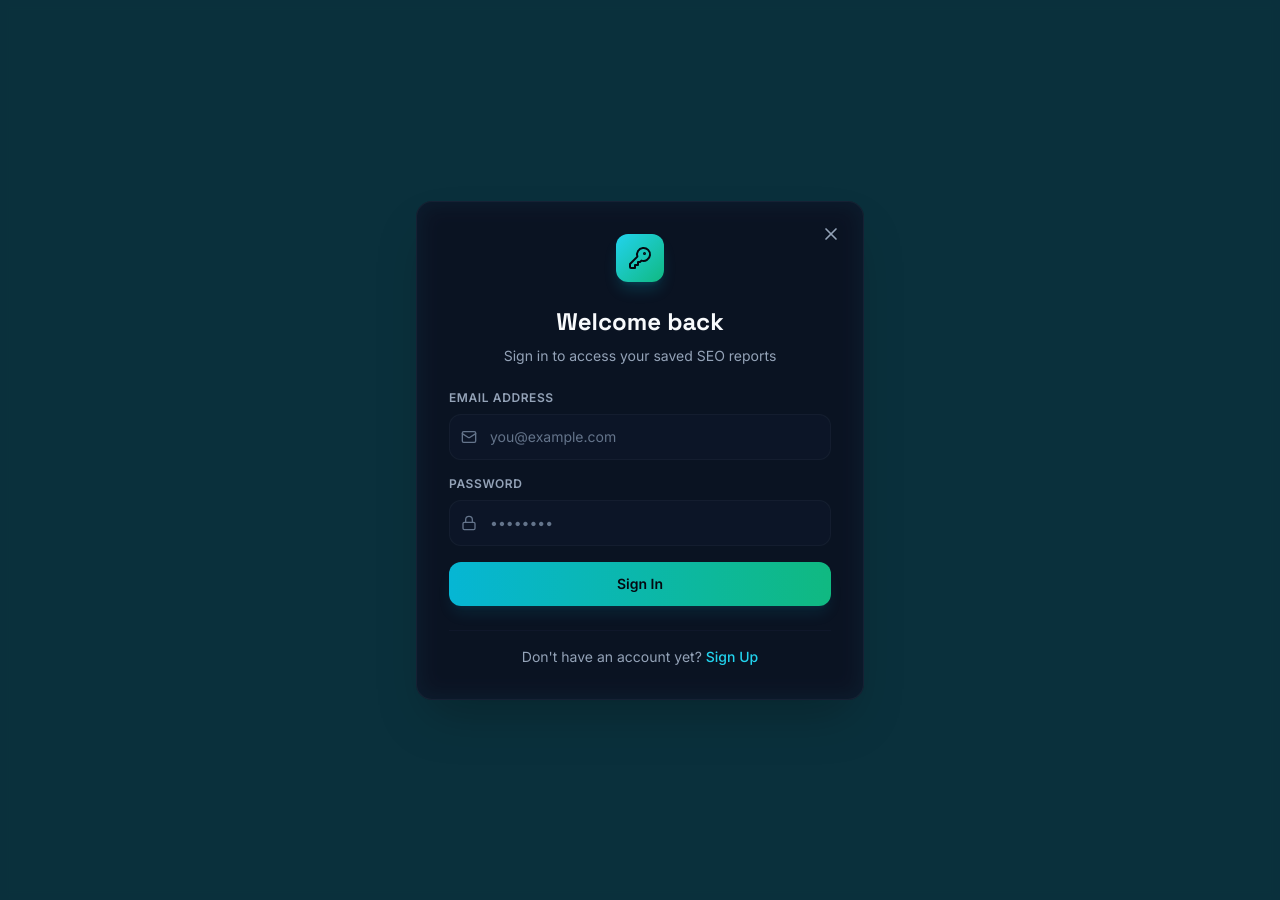
Scenario: AuthModal - Login and Signup Automation Tests (JS) › should validate that password is at least 6 characters
Type "test@example.com" into the field with placeholder "you@example.com". click: (640,436)
box: x1=449 y1=414 x2=831 y2=460
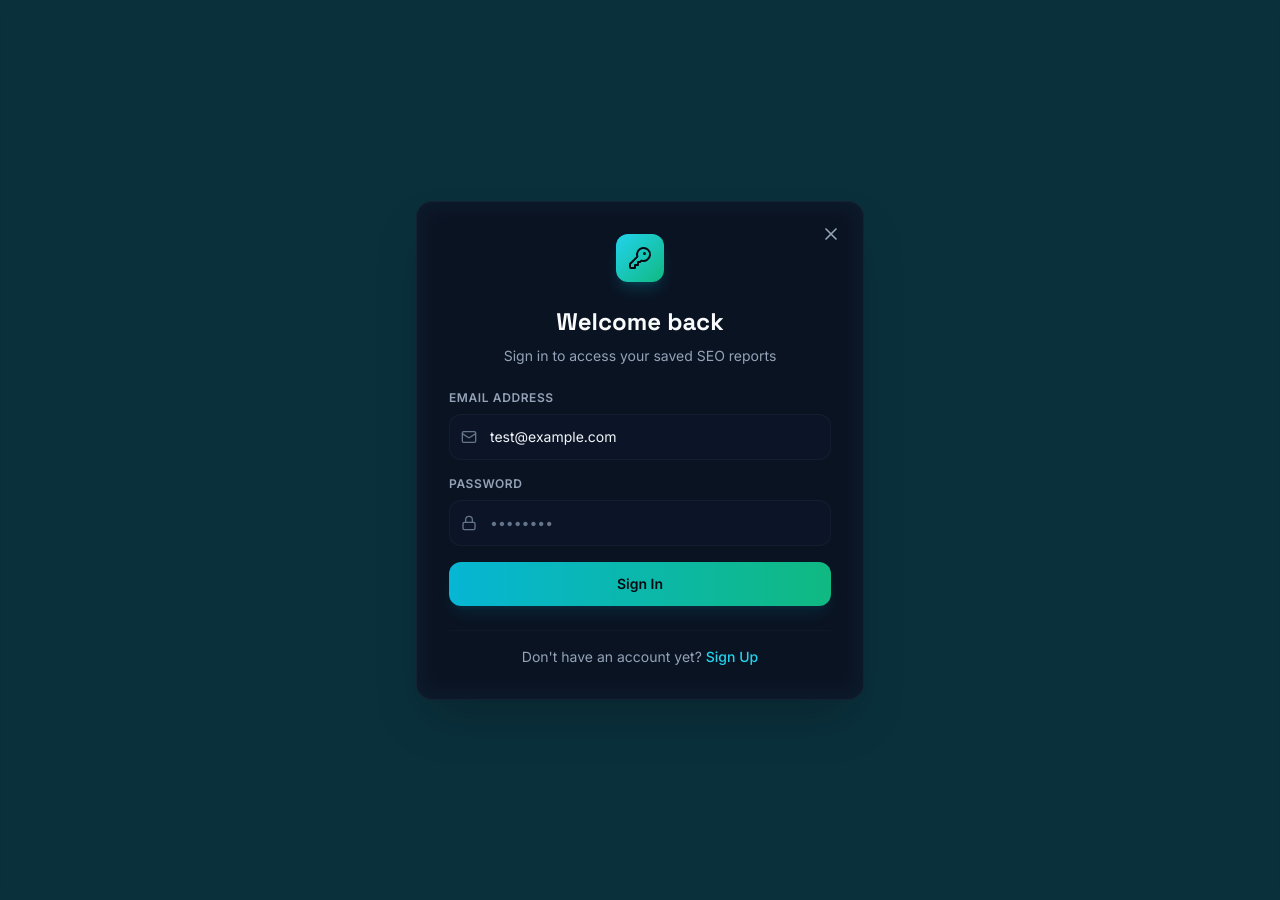
Type "123" into the password field with placeholder "••••••••". click: (640,522)
box: x1=449 y1=500 x2=831 y2=546
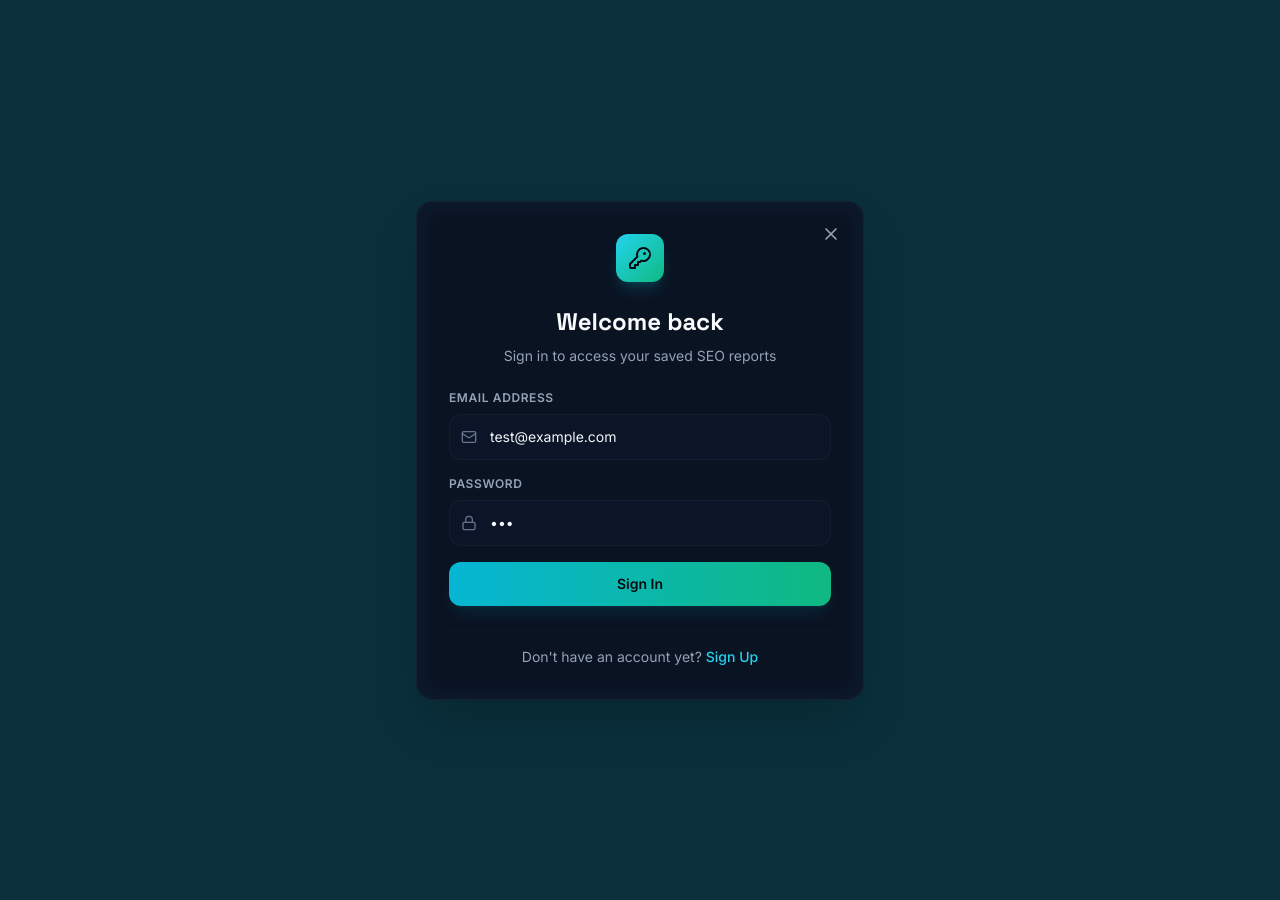
Click the button "Sign In". click: (640,584)
box: x1=449 y1=562 x2=831 y2=606
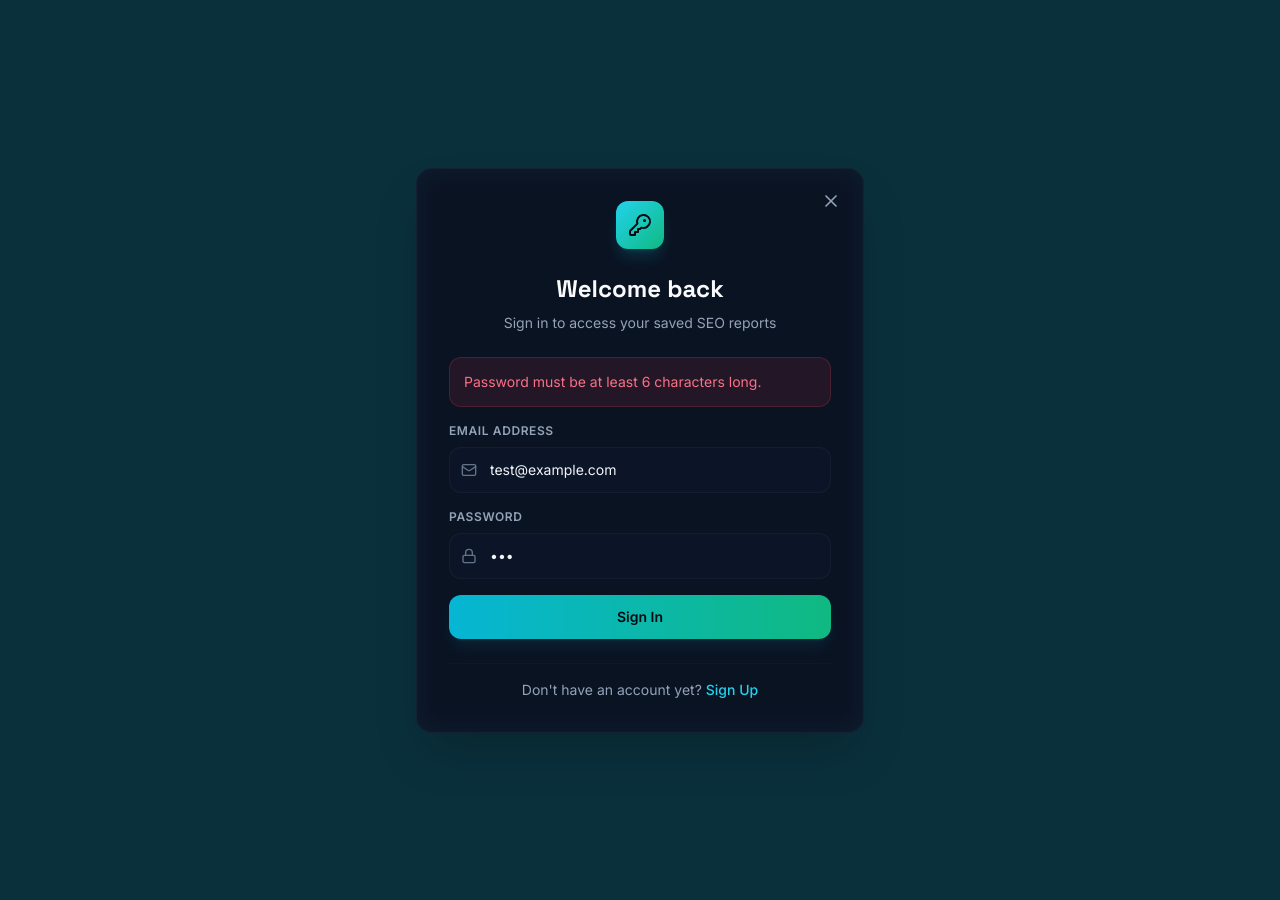
Check: the text "Password must be at least 6 characters long." is shown, box x1=449 y1=356 x2=831 y2=406
